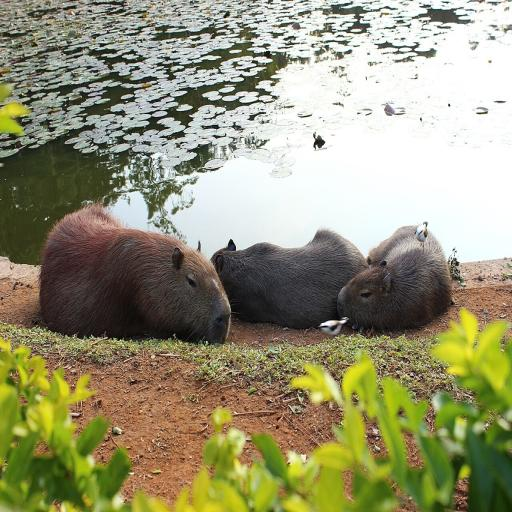capybara: (40, 205, 230, 342), (212, 229, 367, 328), (338, 226, 451, 330)
